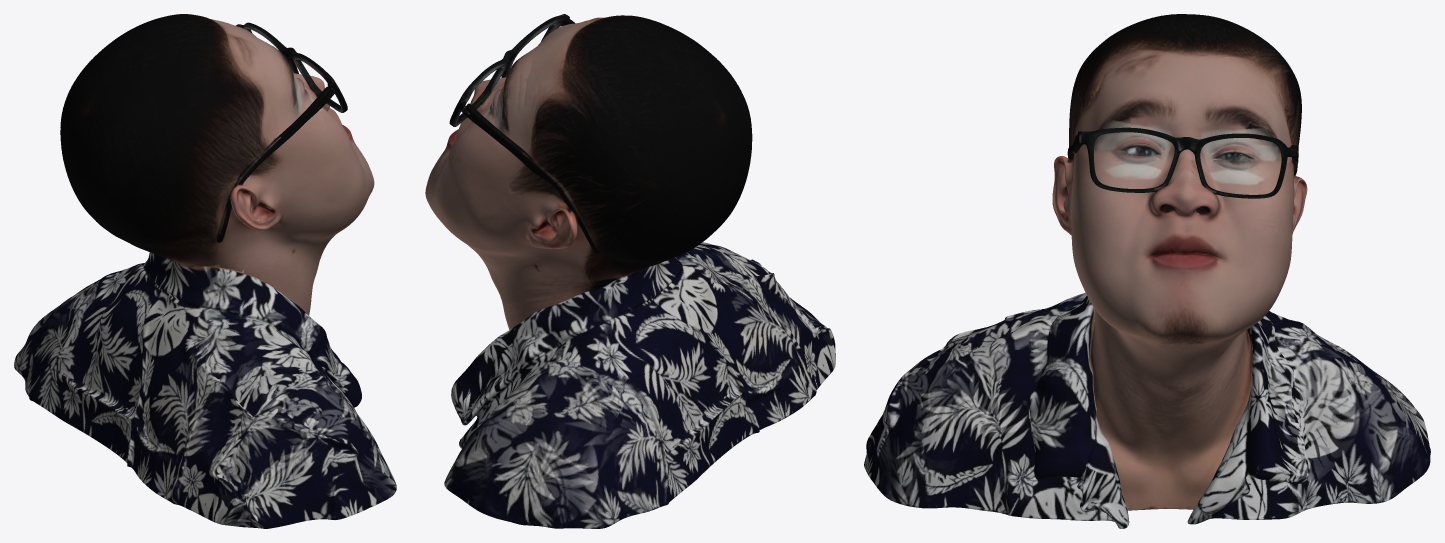
Rendered from portrait.glb.
The picture shows the model from 3 angles, left to right: view 1: azimuth 30°, elevation 25°; view 2: azimuth 150°, elevation 25°; view 3: azimuth 270°, elevation 25°; orthographic projection. The views are drawn at different scales.
Visible parts, largest first — view 1: tripo_node_bd4b36a8-96f3-4431-bff8-9fa2da59f3b4; view 2: tripo_node_bd4b36a8-96f3-4431-bff8-9fa2da59f3b4; view 3: tripo_node_bd4b36a8-96f3-4431-bff8-9fa2da59f3b4.
Boxes of the visible parts, box(x1,y1,x2,y2) form: tripo_node_bd4b36a8-96f3-4431-bff8-9fa2da59f3b4: box(14, 14, 396, 528); tripo_node_bd4b36a8-96f3-4431-bff8-9fa2da59f3b4: box(425, 14, 835, 528); tripo_node_bd4b36a8-96f3-4431-bff8-9fa2da59f3b4: box(864, 14, 1430, 528).
Size of the model in its own units: 0.6345 by 0.8297 by 0.9808.
1 material, 1 textured.
